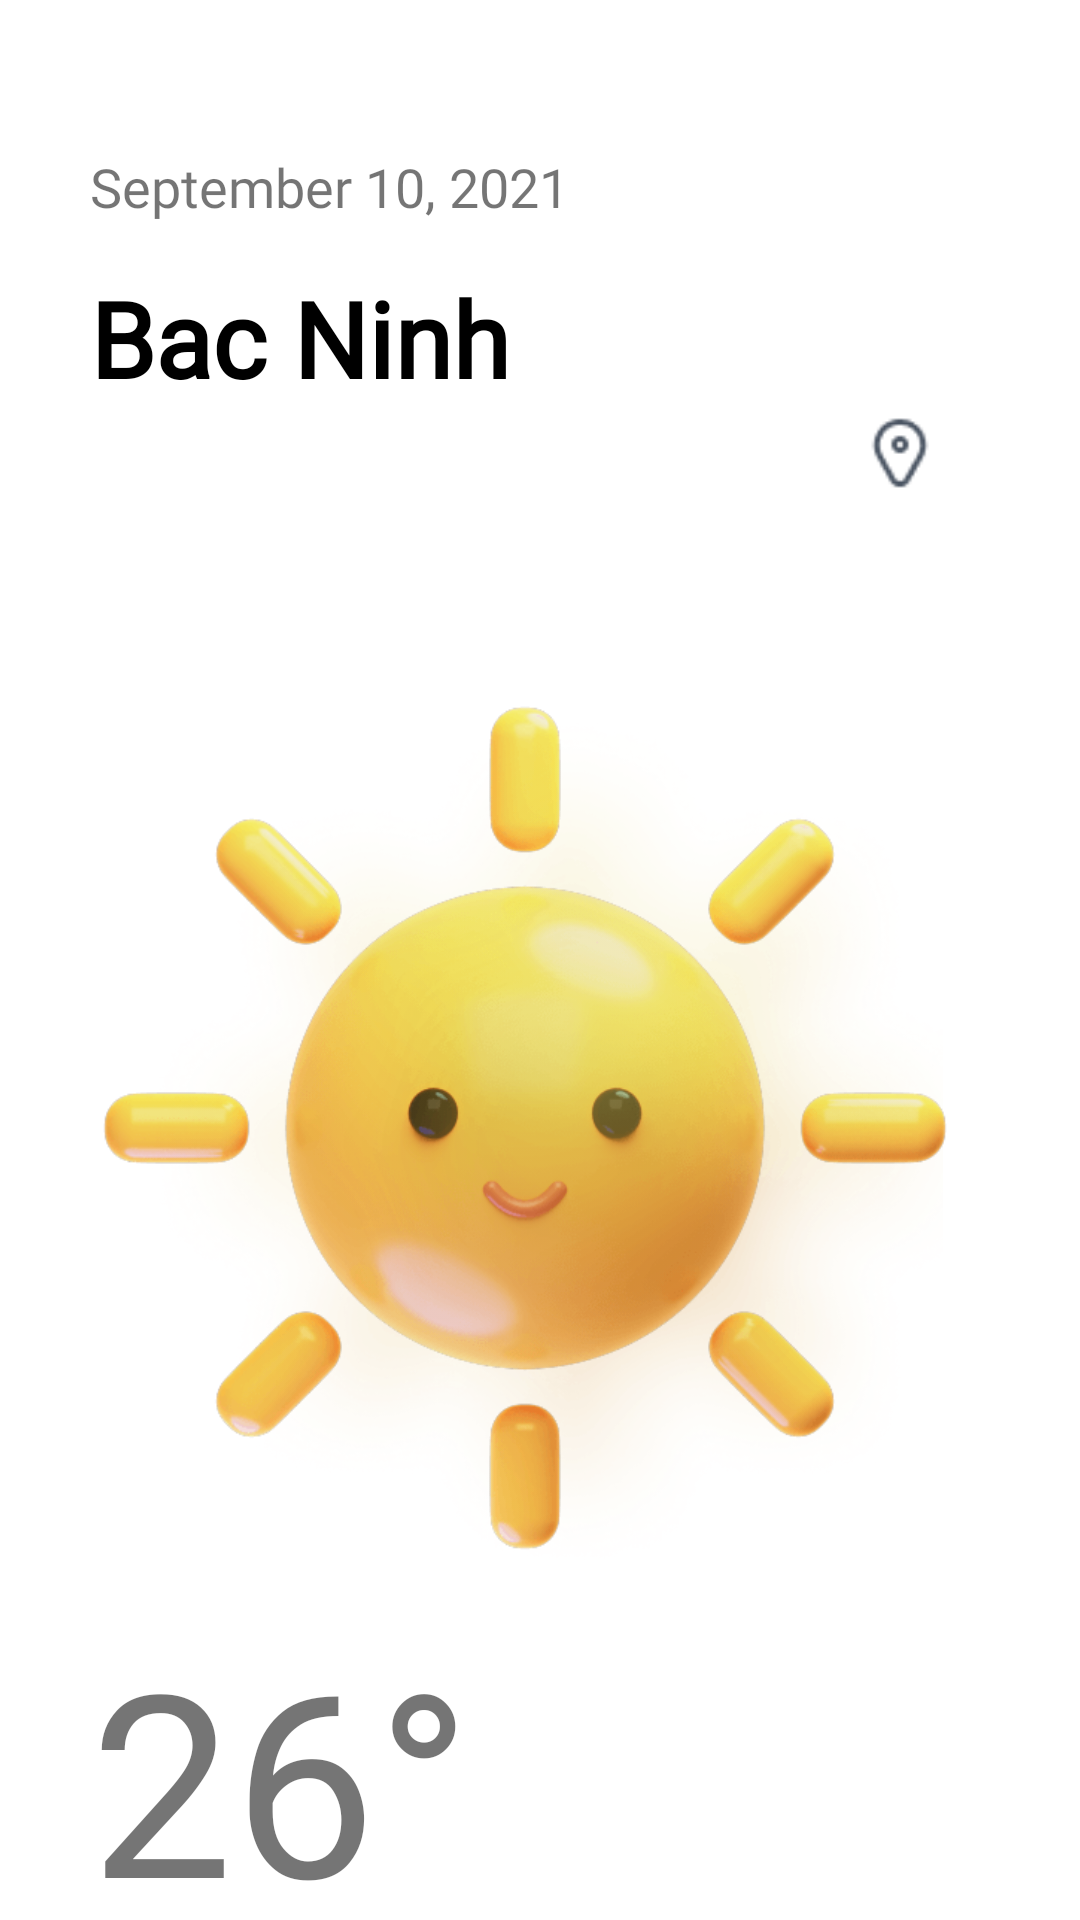

Locate icon controls on the screen. Image size 1080×1920, boxes as (x1, y1, x2, y2).
locicon: (872, 418, 928, 488)
